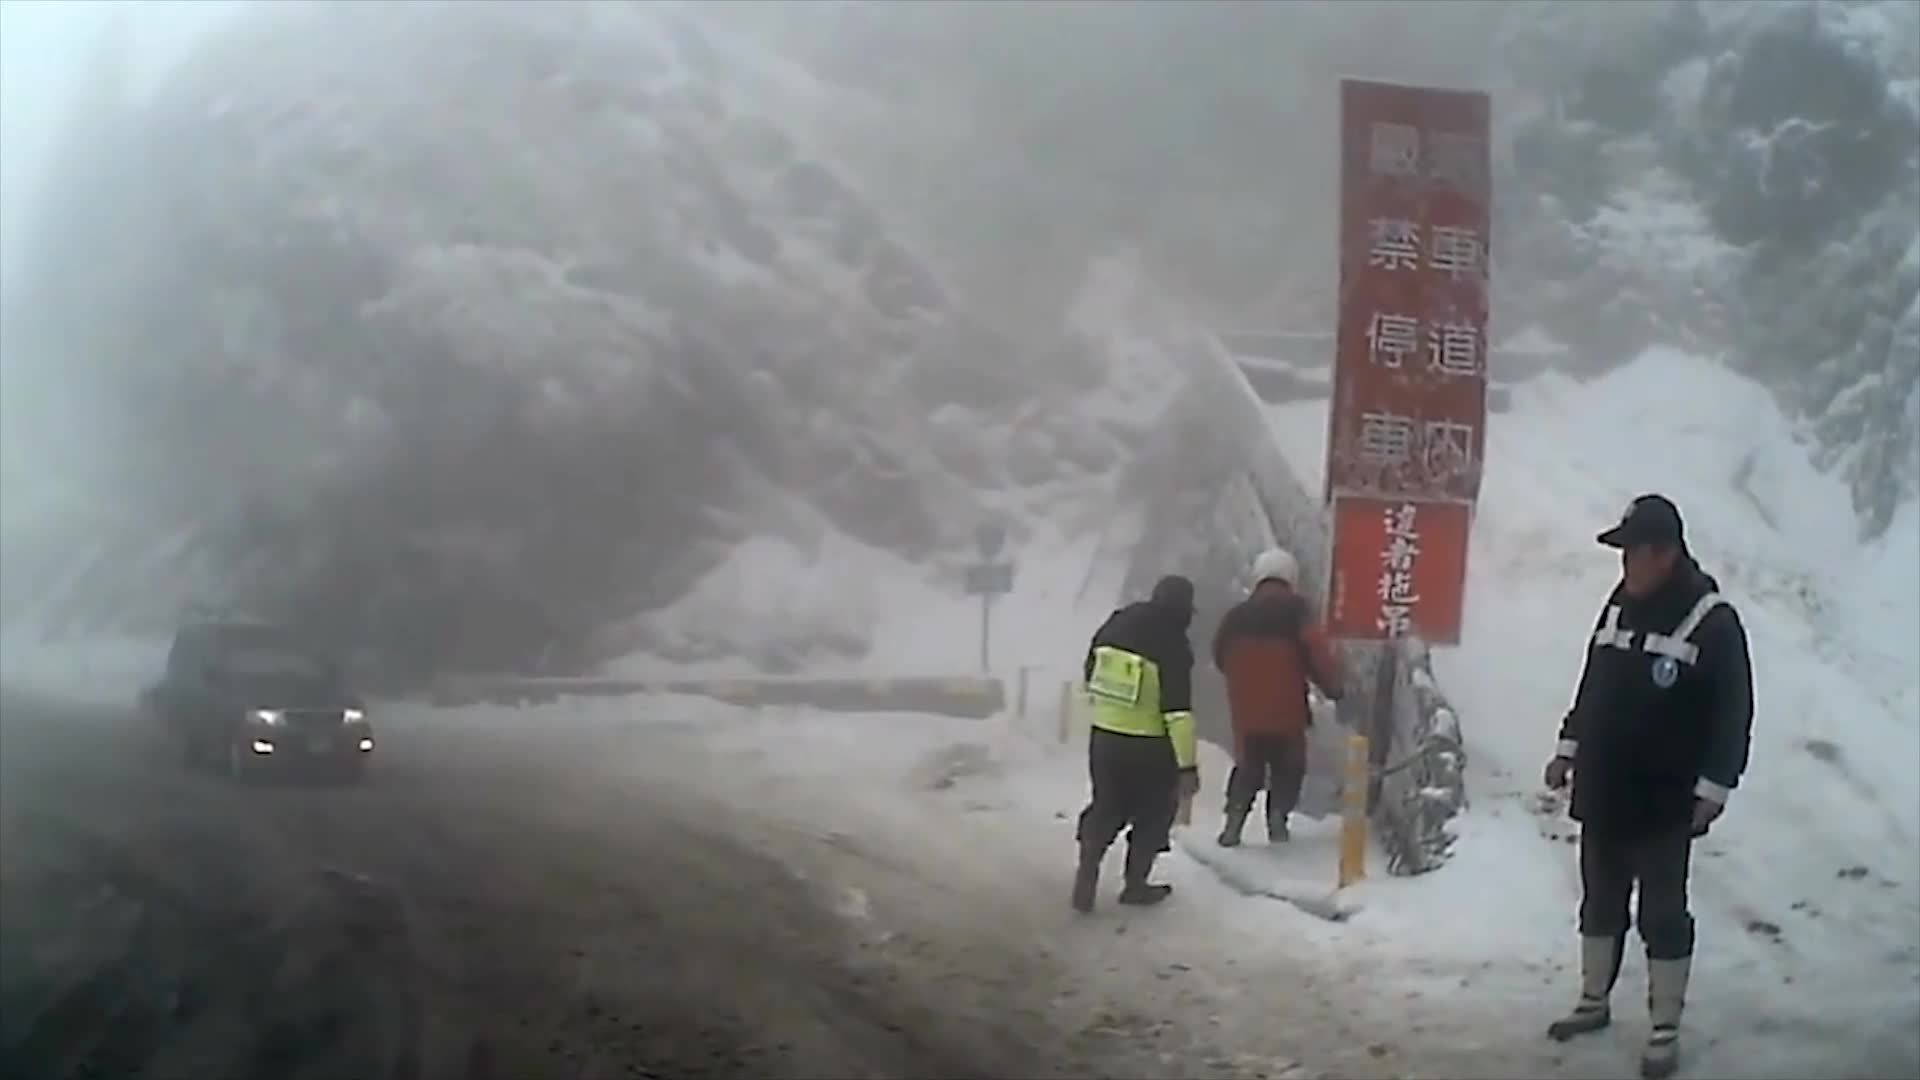pedestrian: (1541, 492, 1758, 1075), (1068, 579, 1205, 921), (1218, 548, 1342, 854)
vehicle: (160, 620, 373, 785)
